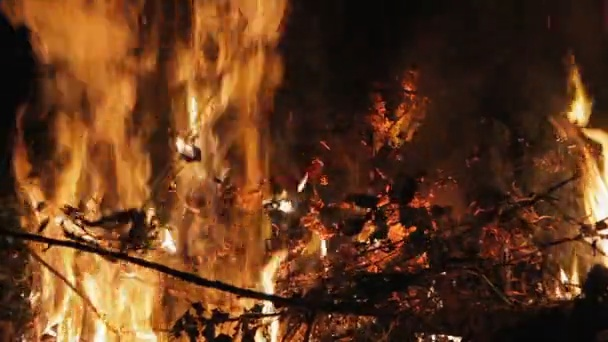fire: (1, 2, 291, 342), (582, 130, 608, 255), (565, 74, 589, 123), (554, 257, 580, 298), (318, 237, 327, 256)
